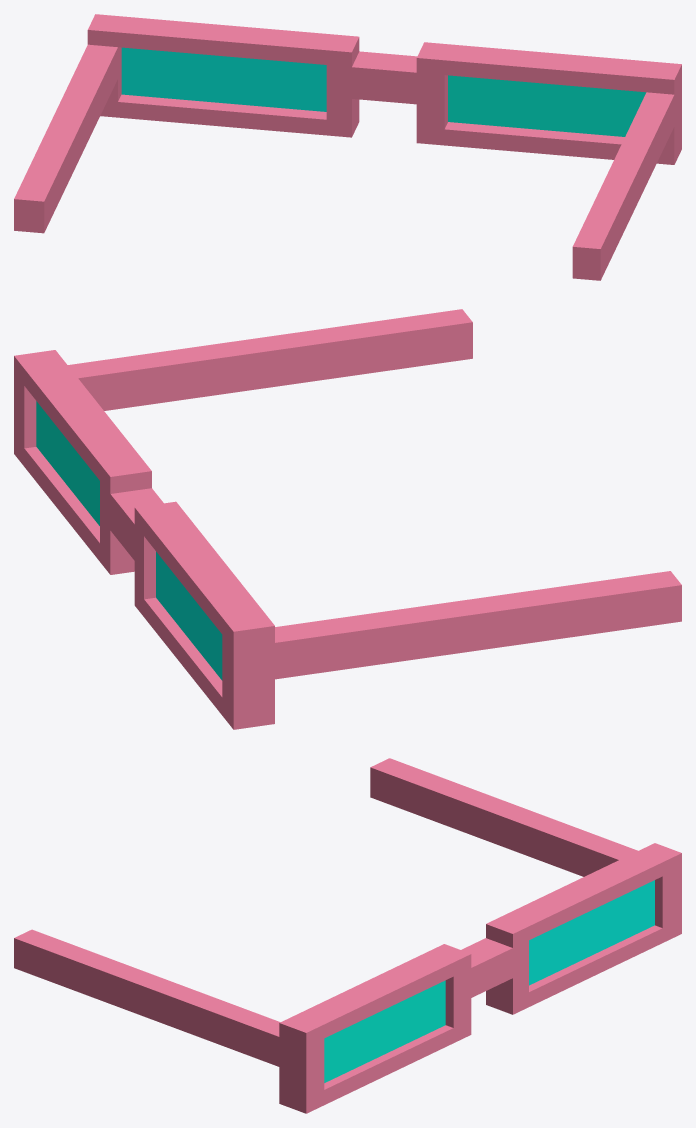
File: NAOCARI2.fbx
3 views of the same model, one above another, from view 1: azimuth 30°, elevation 25°; view 2: azimuth 150°, elevation 25°; view 3: azimuth 270°, elevation 25° (orthographic). The views are drawn at different scales.
Visible parts, largest first — view 1: Cube.041, Cube.039, Cube.040; view 2: Cube.041, Cube.039, Cube.040; view 3: Cube.041, Cube.039, Cube.040.
Boxes of the visible parts, bbox=[...] form: Cube.041: bbox=[14, 14, 681, 280]; Cube.039: bbox=[121, 47, 326, 111]; Cube.040: bbox=[448, 75, 646, 136]; Cube.041: bbox=[14, 309, 681, 729]; Cube.039: bbox=[156, 551, 222, 680]; Cube.040: bbox=[36, 401, 99, 525]; Cube.041: bbox=[14, 758, 681, 1113]; Cube.039: bbox=[529, 880, 654, 985]; Cube.040: bbox=[324, 980, 445, 1082].
Bounding box in the file's own units: 249 × 32.53 × 244.
